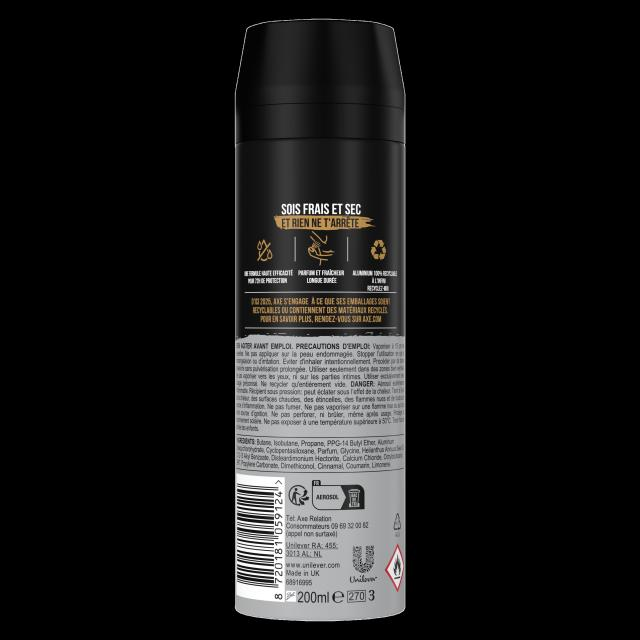GHS_Symbol_FLAME: (386, 542, 404, 592)
